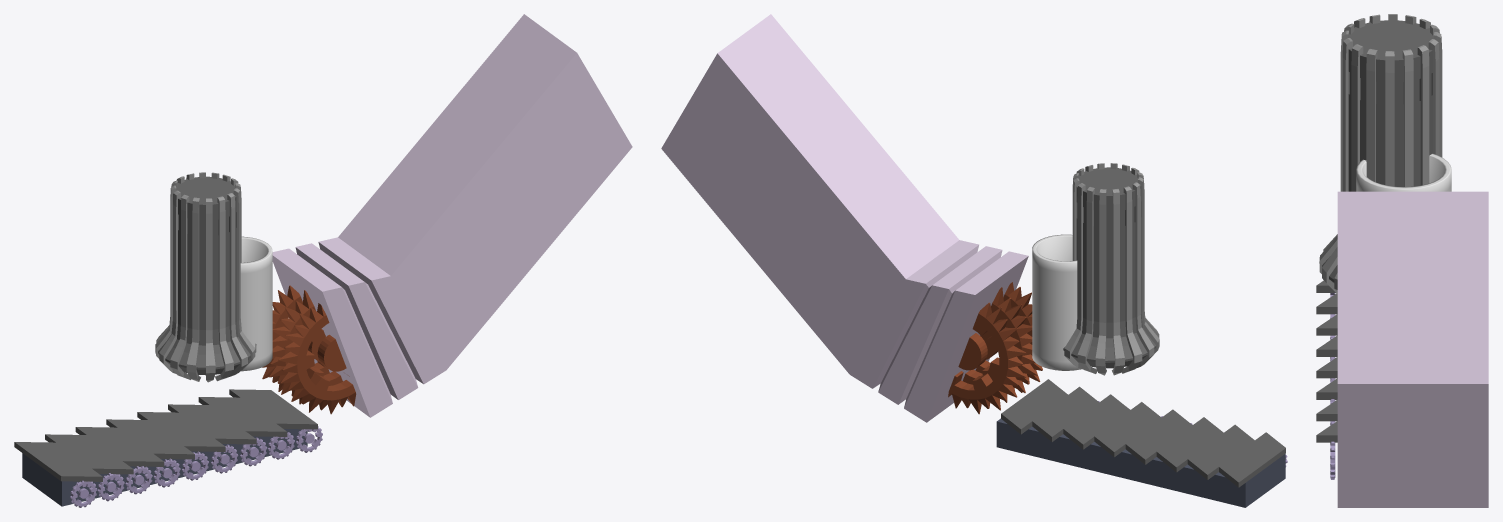
The model's file is MiniGameJam_072025_assets.fbx.
The picture shows the model from 3 angles, left to right: view 1: azimuth 30°, elevation 25°; view 2: azimuth 150°, elevation 25°; view 3: azimuth 270°, elevation 25°; orthographic projection. The views are drawn at different scales.
Visible parts, largest first — view 1: fleischwolf, conveyorBelt_Wheel.008, Tube, Cylinder; view 2: fleischwolf, conveyorBelt_Wheel.008, Tube, Cylinder; view 3: fleischwolf, Tube, conveyorBelt_Wheel.008, Cylinder.
Part boxes in pixels (x1,y1,x2,y2): fleischwolf: [262, 14, 632, 417]; conveyorBelt_Wheel.008: [14, 389, 322, 507]; Tube: [155, 172, 256, 382]; Cylinder: [240, 236, 272, 371]; fleischwolf: [661, 14, 1042, 422]; conveyorBelt_Wheel.008: [996, 379, 1287, 507]; Tube: [1063, 163, 1159, 375]; Cylinder: [1032, 234, 1081, 370]; fleischwolf: [1337, 191, 1488, 507]; Tube: [1319, 14, 1442, 293]; conveyorBelt_Wheel.008: [1316, 280, 1337, 479]; Cylinder: [1356, 153, 1451, 191].
Bounding box in the file's own units: 1959 × 1096 × 361.
